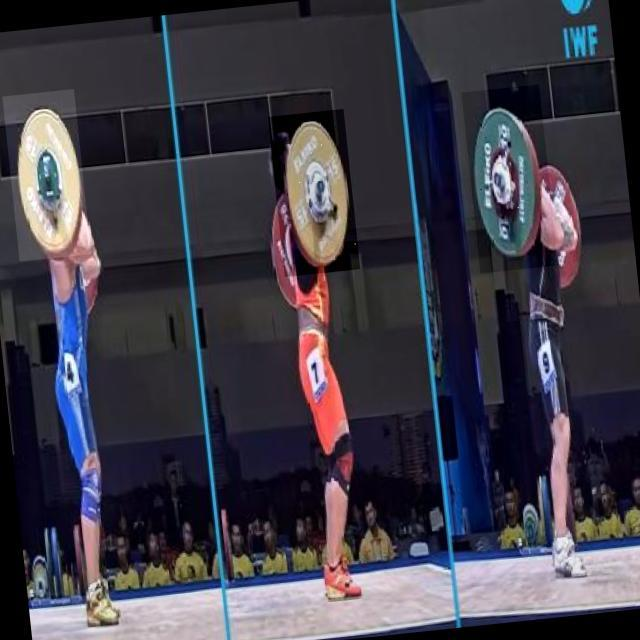barbell: (462, 85, 558, 274), (269, 110, 361, 278), (3, 90, 92, 263)
